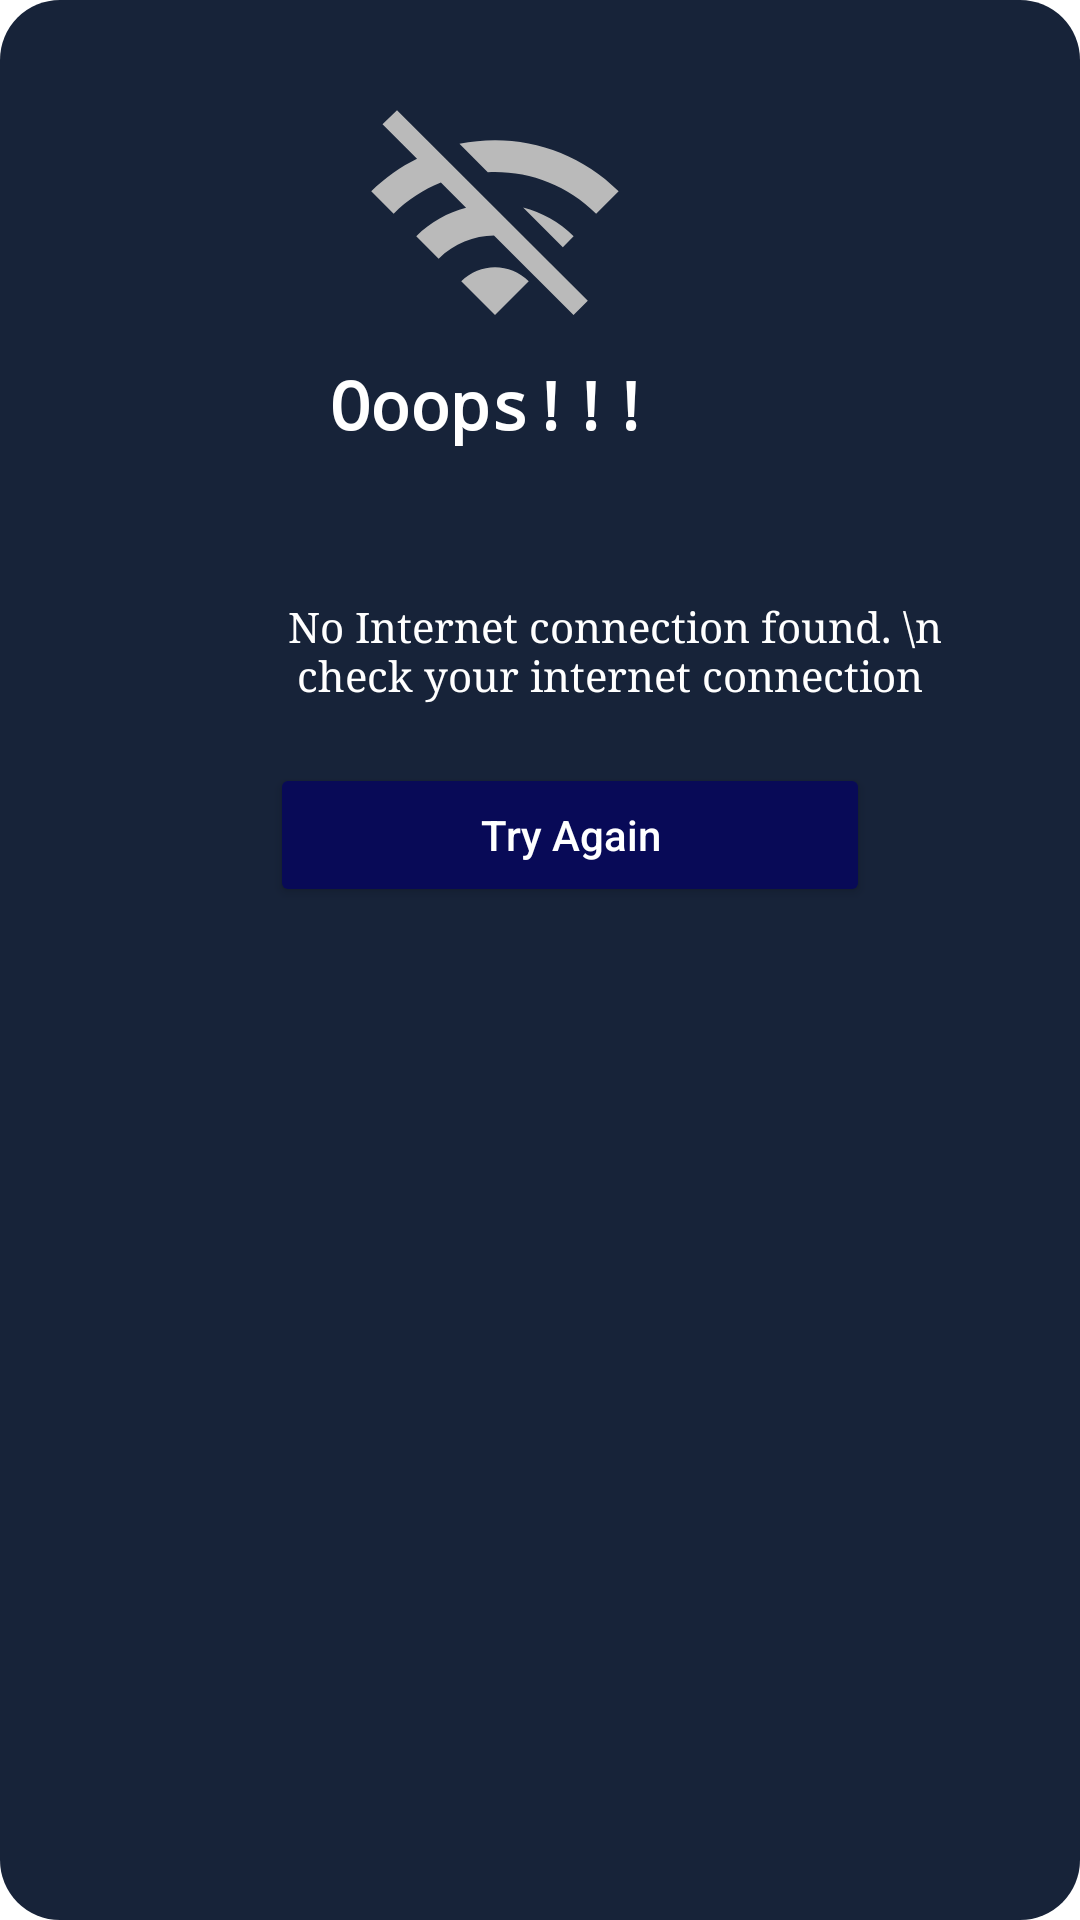

Icons on this 1080px×1920px Android screen, each with the point to tap as (x=x, y=y):
wifi: (x=495, y=212)
